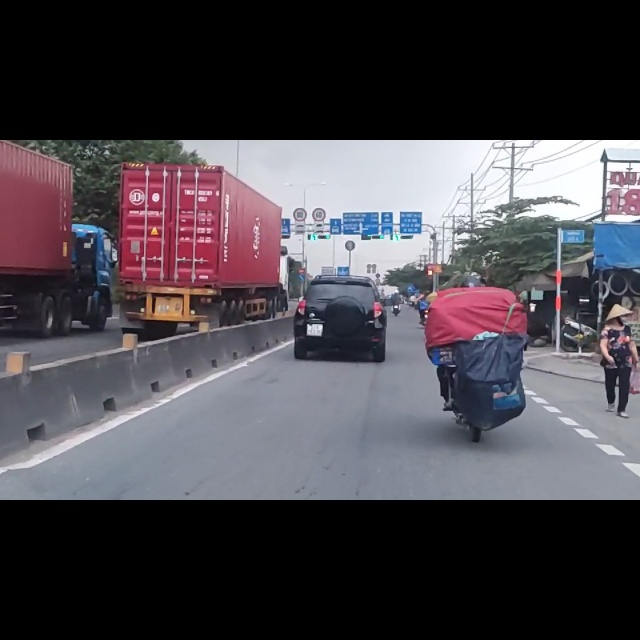bien_cam: (311, 119, 327, 147), (293, 121, 307, 145), (298, 226, 305, 239), (299, 241, 305, 251)
